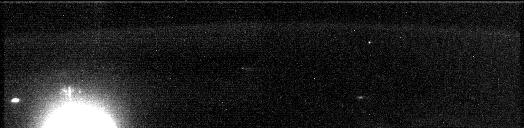positive: (56, 84, 84, 102)
